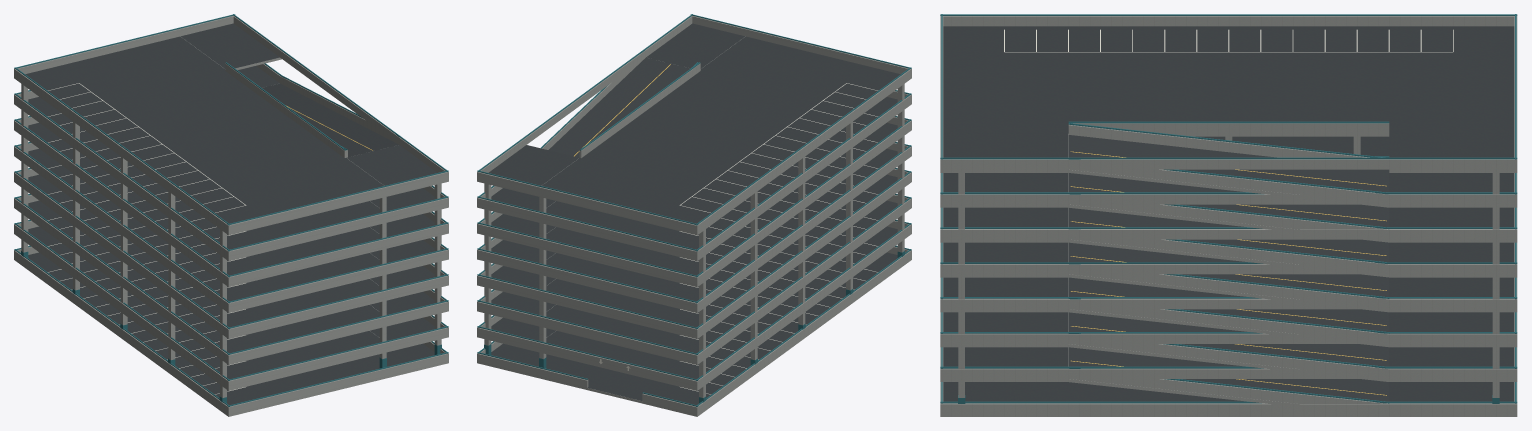
The model's file is small_08.glb.
The picture shows the model from 3 angles, left to right: view 1: azimuth 30°, elevation 25°; view 2: azimuth 150°, elevation 25°; view 3: azimuth 270°, elevation 25°; orthographic projection. The views are drawn at different scales.
Visible parts, largest first — view 1: small_08_Asphalt, small_08_Concrete, small_08_Teal, small_08_Paint; view 2: small_08_Asphalt, small_08_Concrete, small_08_Teal, small_08_Paint; view 3: small_08_Asphalt, small_08_Concrete, small_08_Teal, small_08_Yellow, small_08_Paint.
Part boxes in pixels (box(x1,y1,x2,y2)): small_08_Asphalt: box(25, 23, 437, 405); small_08_Concrete: box(14, 15, 448, 416); small_08_Teal: box(14, 14, 448, 406); small_08_Paint: box(48, 83, 246, 394); small_08_Asphalt: box(488, 23, 900, 405); small_08_Concrete: box(477, 15, 911, 416); small_08_Teal: box(477, 14, 911, 406); small_08_Paint: box(679, 83, 877, 394); small_08_Asphalt: box(943, 26, 1514, 401); small_08_Concrete: box(940, 16, 1517, 416); small_08_Teal: box(940, 14, 1517, 403); small_08_Yellow: box(1070, 151, 1386, 395); small_08_Paint: box(1004, 29, 1453, 52).
Bounding box in the file's own units: 32 × 26.68 × 54.02.
Materials: 6 (2 with a texture image).
